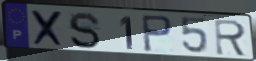1: (119, 15, 135, 50)
5: (180, 15, 210, 56)
P: (140, 14, 175, 54)
R: (213, 18, 250, 58)
S: (67, 11, 103, 51)
X: (29, 9, 66, 49)
